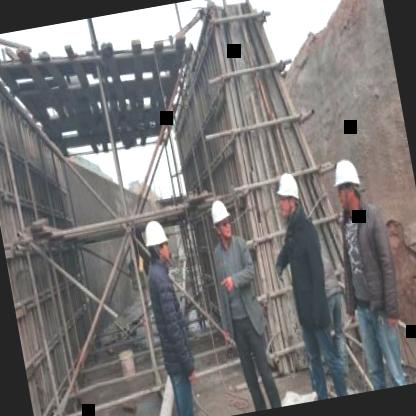helmet: (329, 154, 367, 218), (140, 214, 173, 266), (271, 169, 304, 221), (208, 196, 236, 247)
